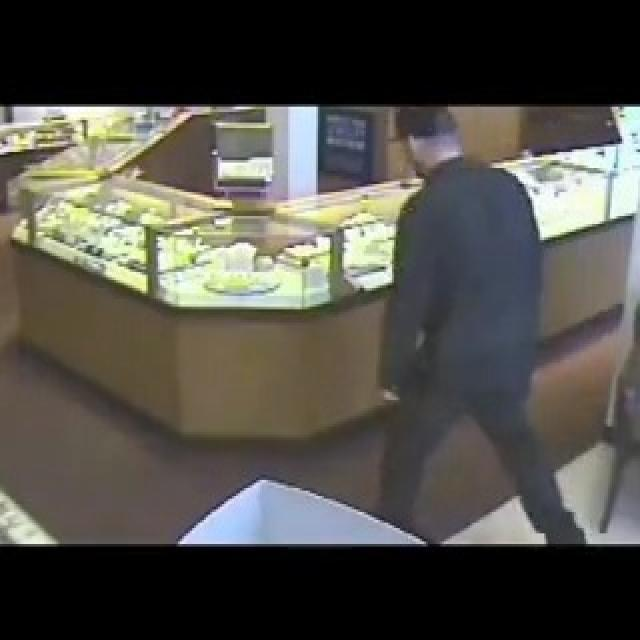normal: (366, 104, 592, 544)
